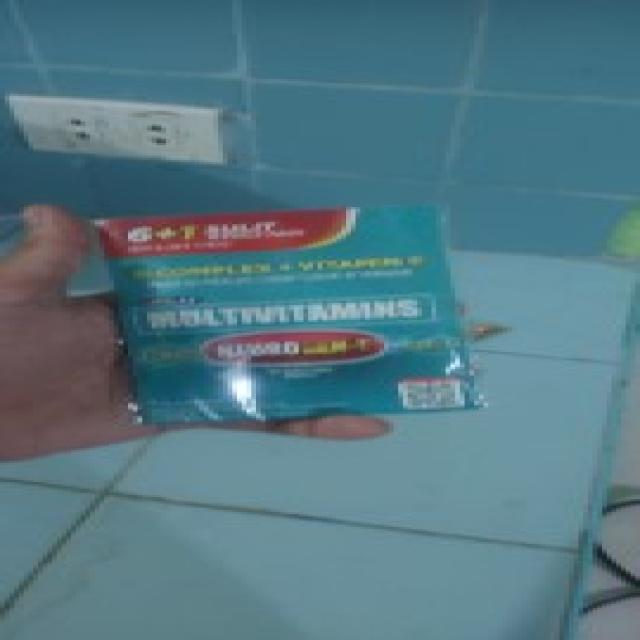Cacat: (89, 204, 488, 428)
